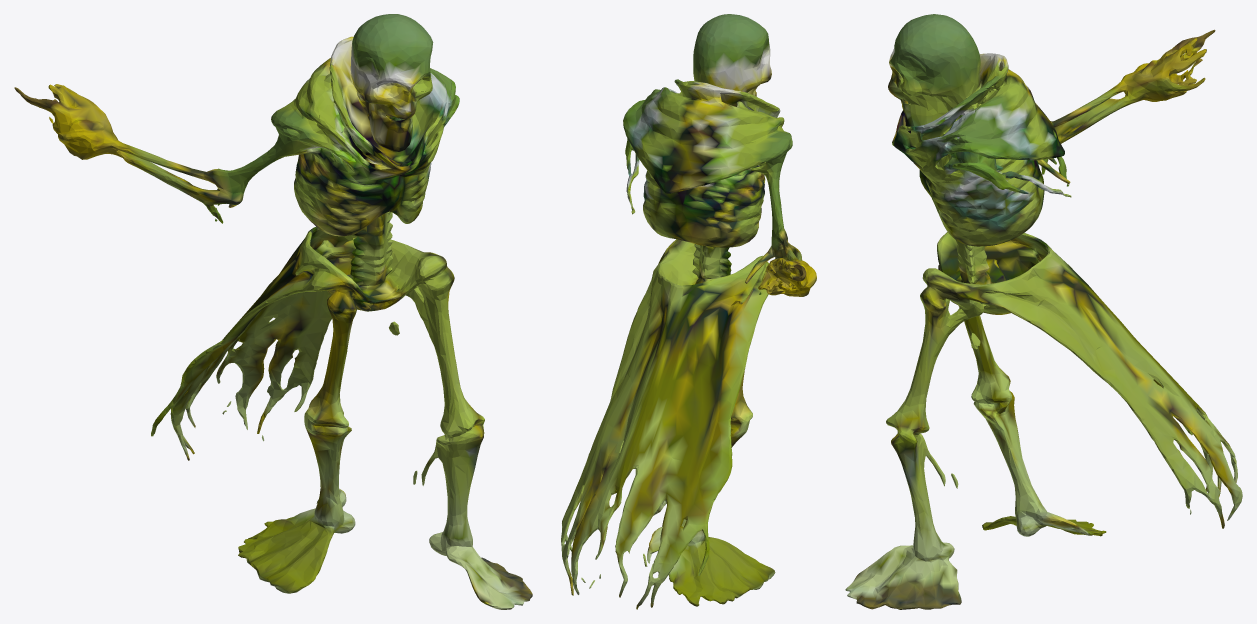
Rendered from wanderingSpirit.glb.
3 renders of one model, left to right at view 1: azimuth 30°, elevation 25°; view 2: azimuth 150°, elevation 25°; view 3: azimuth 270°, elevation 25°, orthographic. The views are drawn at different scales.
Visible parts, largest first — view 1: world; view 2: world; view 3: world.
Boxes of the visible parts, x1=… form: world: x1=14, y1=14, x2=532, y2=609; world: x1=561, y1=14, x2=816, y2=609; world: x1=845, y1=14, x2=1242, y2=609.
Size of the model in its own units: 0.6163 by 1 by 0.6633.
